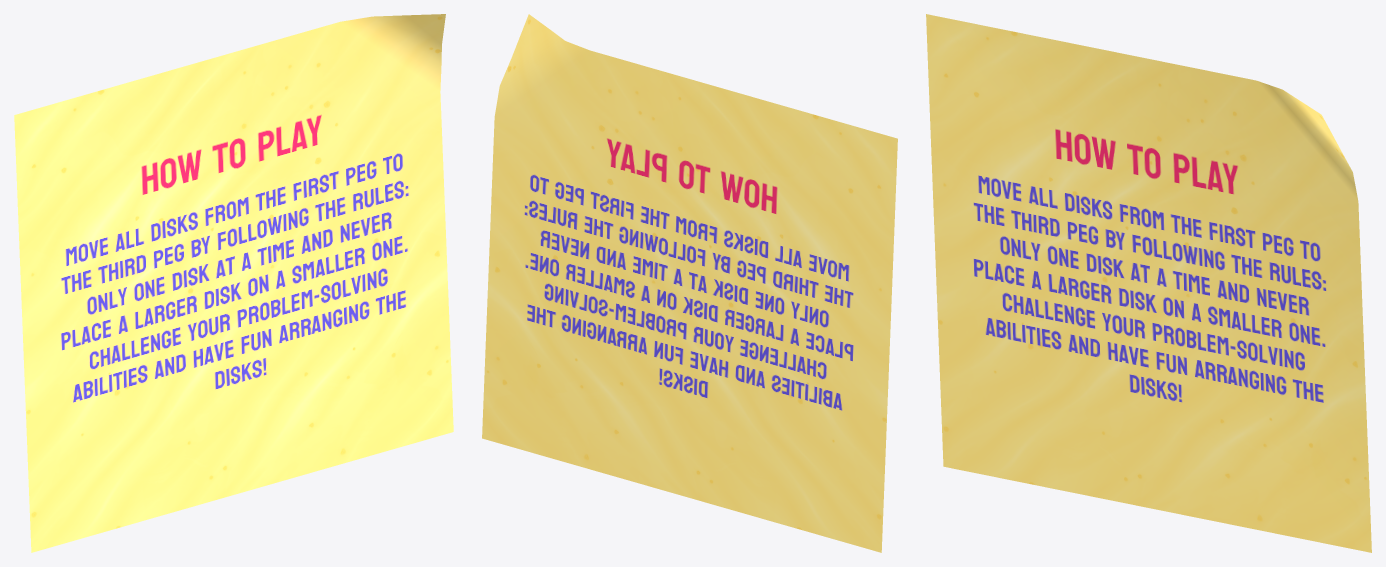
The model's file is instructions.glb.
3 views of the same model, side by side, from view 1: azimuth 30°, elevation 25°; view 2: azimuth 150°, elevation 25°; view 3: azimuth 330°, elevation 25° (orthographic). The views are drawn at different scales.
Visible parts, largest first — view 1: Plane.006; view 2: Plane.006; view 3: Plane.006.
Part boxes in pixels (left/top/right/bottom): Plane.006: left=14, top=14, right=453, bottom=552; Plane.006: left=482, top=14, right=897, bottom=552; Plane.006: left=926, top=14, right=1371, bottom=552.
Size of the model in its own units: 3.26 by 3.25 by 0.2679.
1 material, 1 textured.
